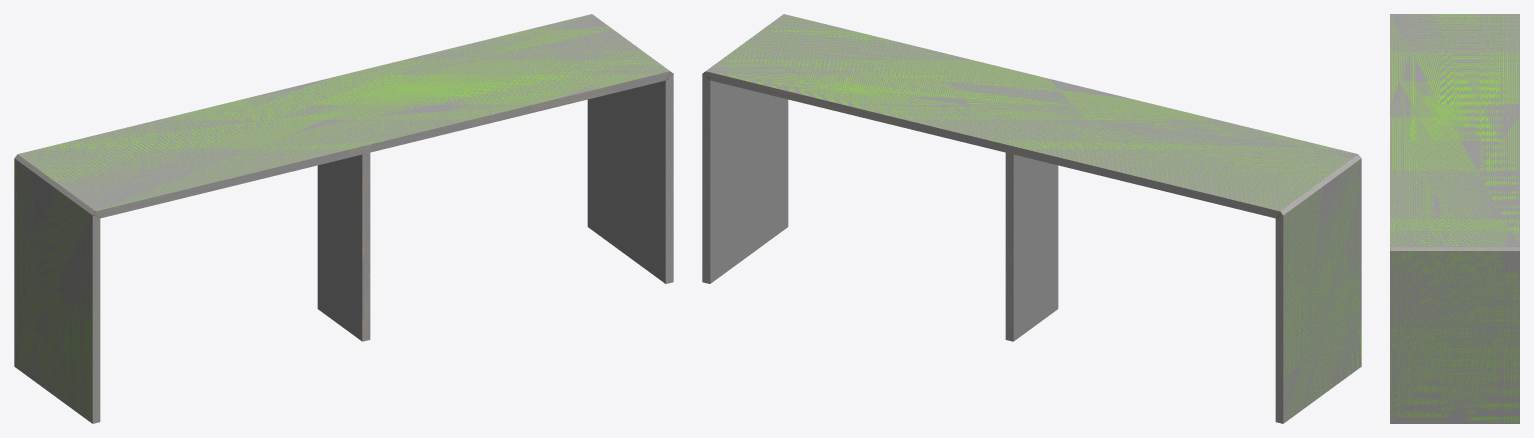
File: table.dae
The picture shows the model from 3 angles, left to right: view 1: azimuth 30°, elevation 25°; view 2: azimuth 150°, elevation 25°; view 3: azimuth 270°, elevation 25°; orthographic projection. The views are drawn at different scales.
Parts seen in each view (by area): view 1: group_0 (×7); view 2: group_0 (×7); view 3: group_0 (×6).
Boxes of the visible parts, <box> form: group_0 (×7): <box>14,14,673,423</box>; group_0 (×7): <box>702,14,1361,423</box>; group_0 (×6): <box>1390,14,1519,423</box>.
Bounding box in the file's own units: 118 × 27.56 × 41.14.
